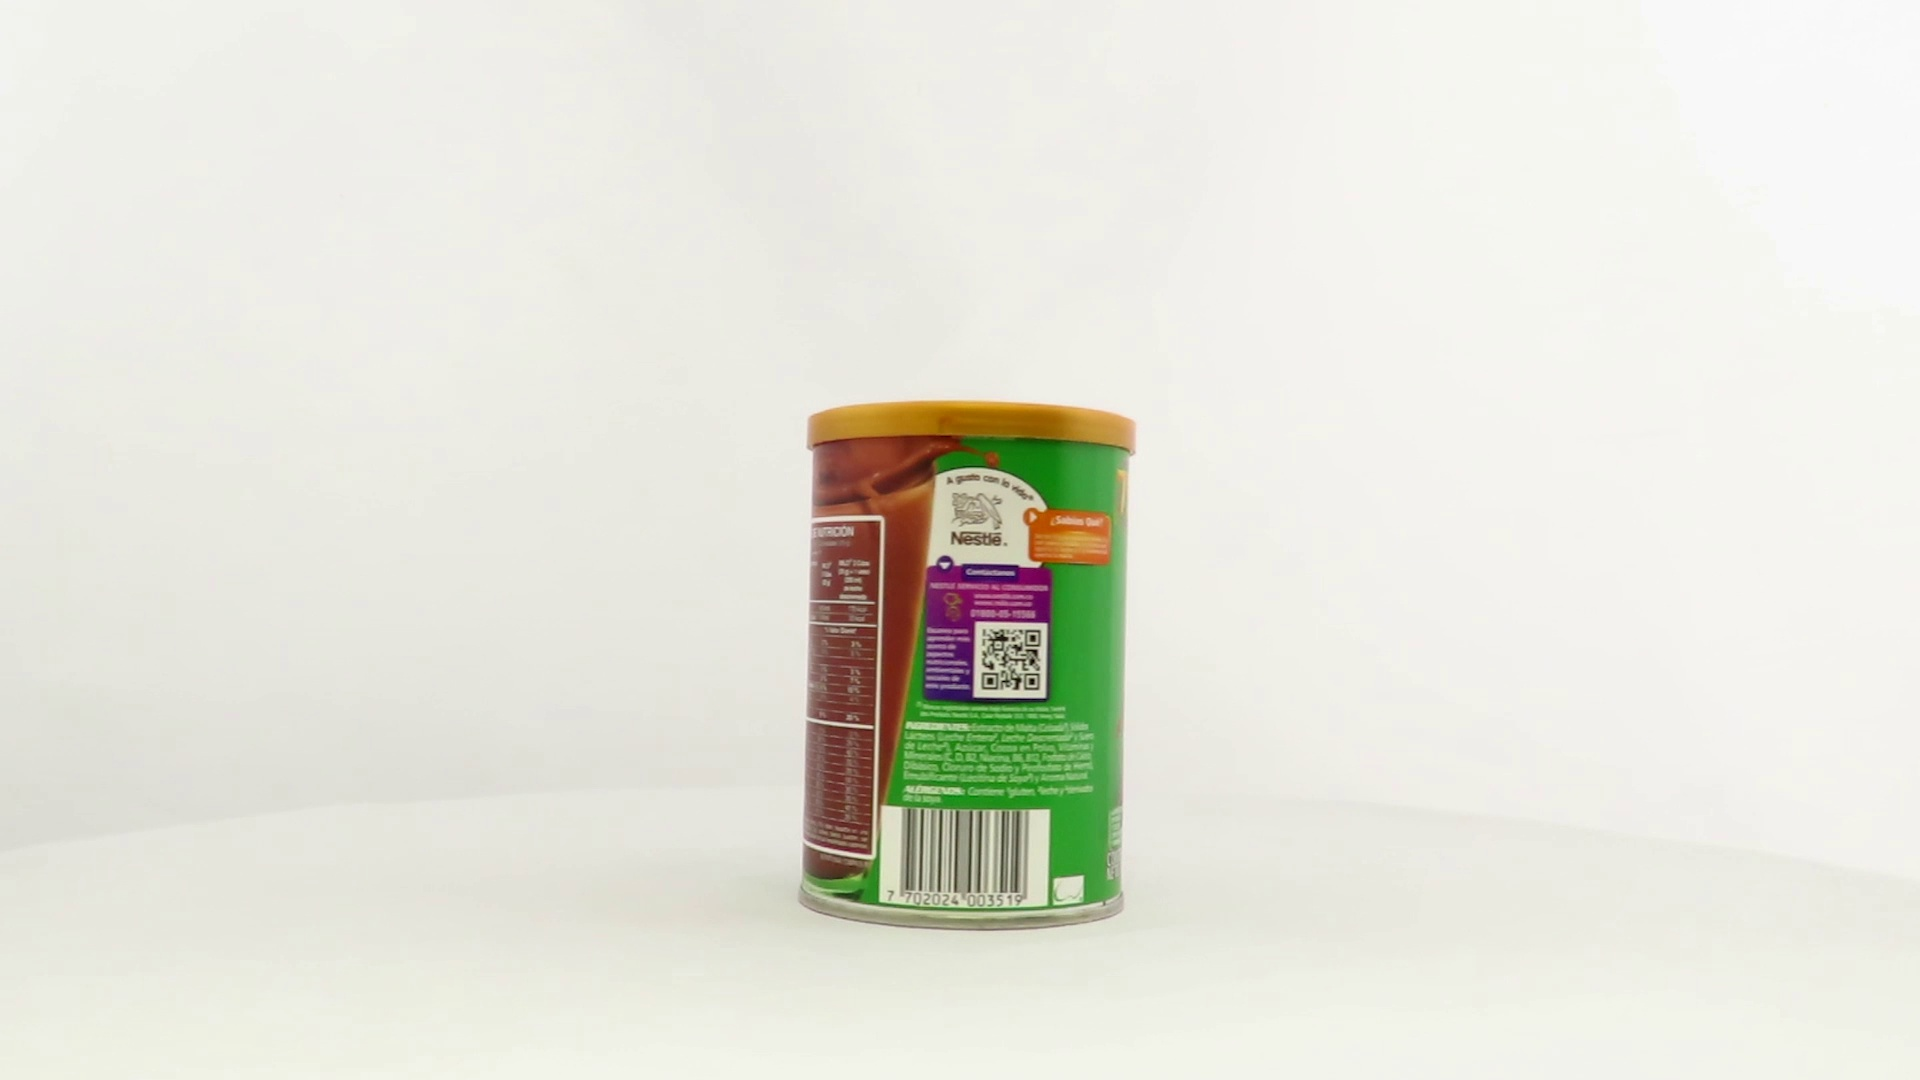COL0170203LAT20000: (793, 396, 1142, 938)
